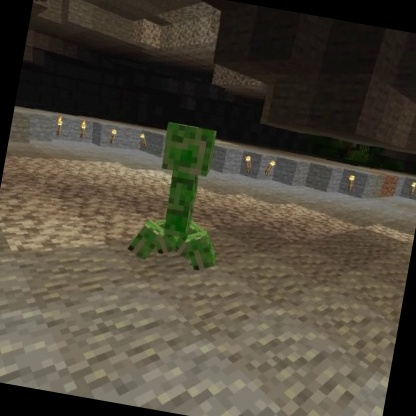creeper: (121, 113, 243, 278)
